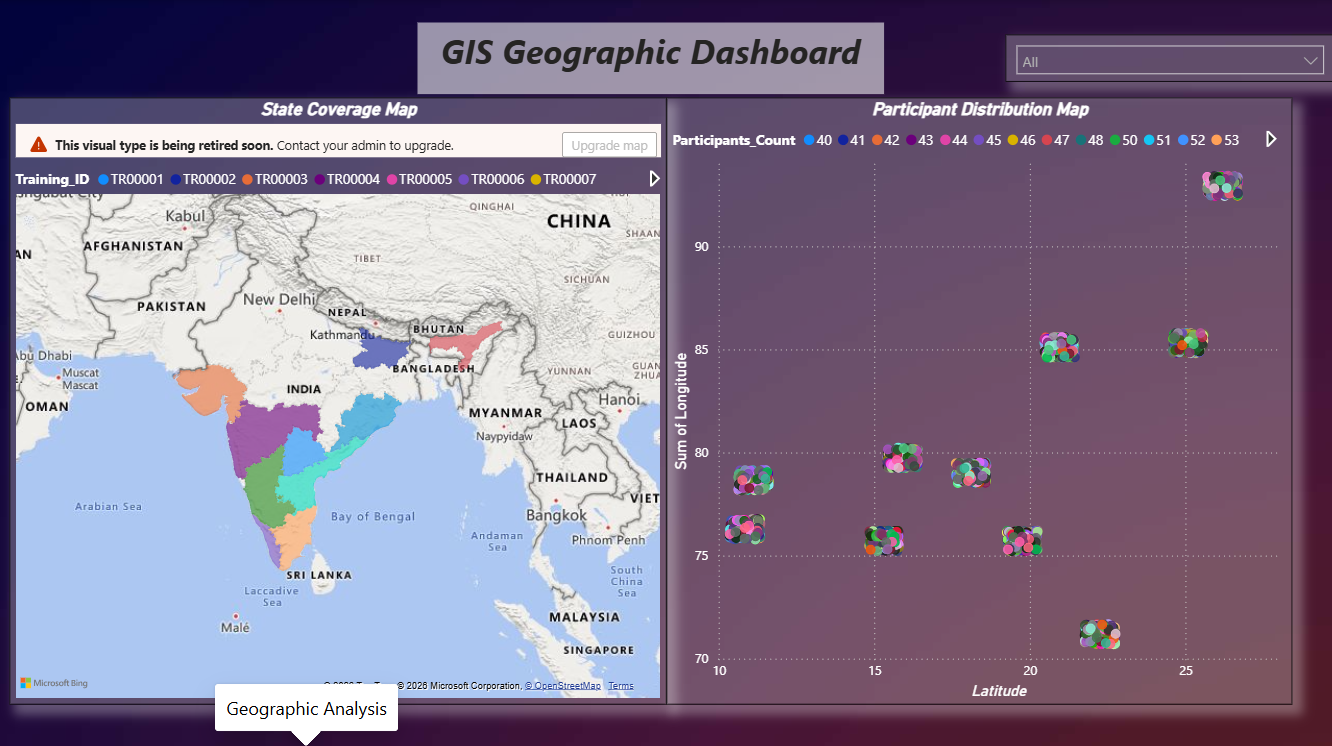

Layout of this report page (visuals, bound fields, positions):
{"tool":"powerbi","page":{"name":"Geographic Analysis","canvas":[1280,720],"ordinal":1},"visuals":[{"type":"textbox","box":[401.9,21.9,447.2,68.7],"z":0},{"type":"filledMap","title":"State Coverage Map","fields":{"Category":["Training_Data.State"],"Series":["Training_Data.Training_ID"]},"box":[10,94,630,582],"z":1000},{"type":"scatterChart","title":"Participant Distribution Map","fields":{"X":["Training_Data.Latitude"],"Y":["Sum(Training_Data.Longitude)"],"Series":["Training_Data.Participants_Count"]},"box":[640,94,600,582],"z":2000},{"type":"slicer","fields":{"Values":["Training_Data.State","Training_Data.District","Training_Data.Disaster_Theme","Training_Data.Institution_Type","Training_Data.Date","Training_Data.Venue_Type"]},"box":[964.6,33.6,315.7,45.3],"z":3000}]}

Visuals, with their boxes in screenshot pixels (x1, y1, x2, y2), scaled from the page's 1280x720 canvas onto the 1332x746 screenshot:
textbox: box=[418, 23, 884, 94]
"State Coverage Map" filledMap: box=[10, 97, 666, 700]
"Participant Distribution Map" scatterChart: box=[666, 97, 1290, 700]
slicer - Training_Data.State x Training_Data.District: box=[1004, 35, 1331, 82]
